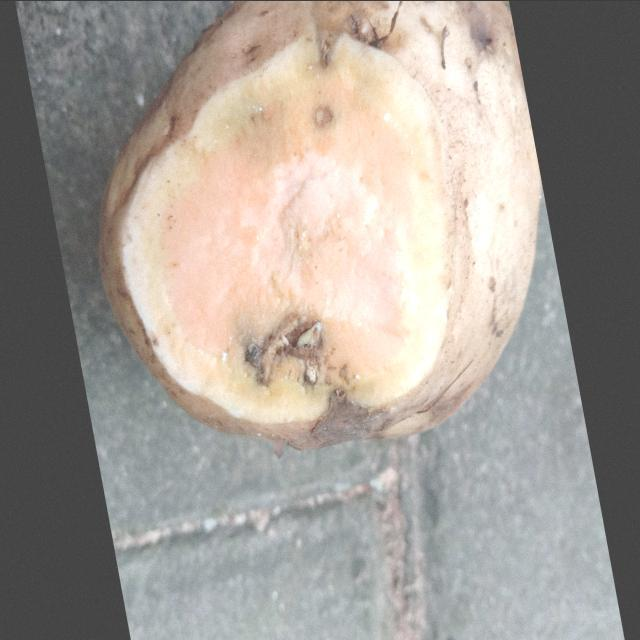Sick Sweet Potato_Tuber Rot: (122, 35, 451, 423)
